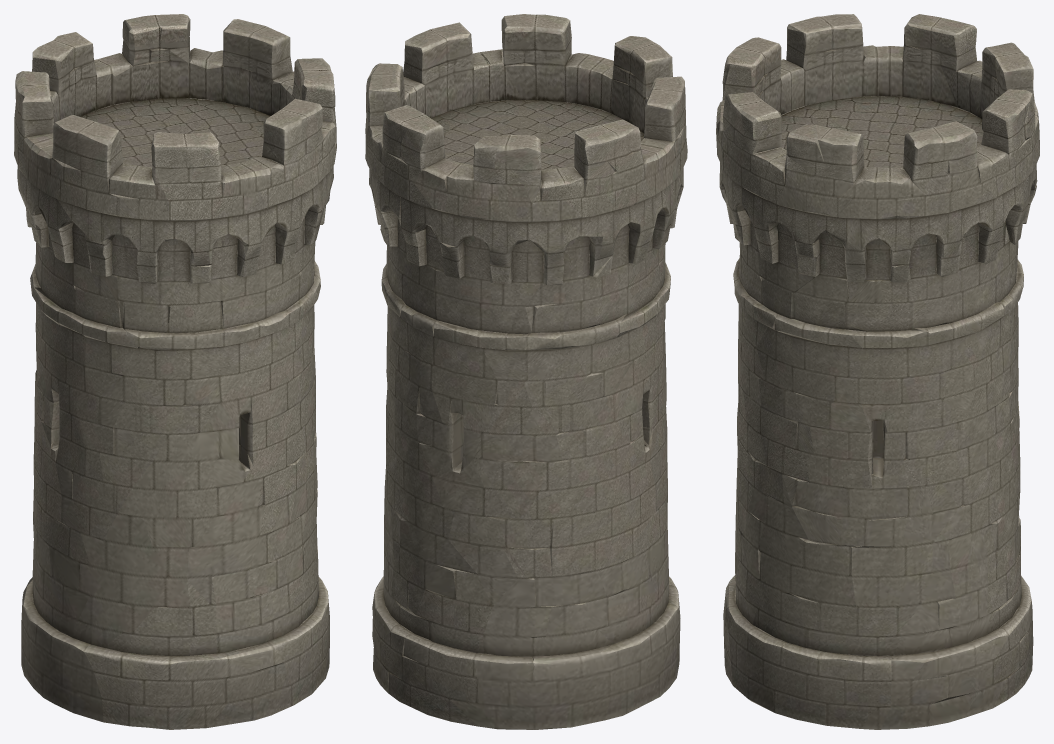
The model's file is tower_open.glb.
The picture shows the model from 3 angles, left to right: view 1: azimuth 30°, elevation 25°; view 2: azimuth 150°, elevation 25°; view 3: azimuth 270°, elevation 25°; orthographic projection.
Parts seen in each view (by area): view 1: tower_open, garrison_floor; view 2: tower_open, garrison_floor; view 3: tower_open, garrison_floor.
Boxes of the visible parts, <box> form: tower_open: <box>14,14,336,729</box>; garrison_floor: <box>81,98,270,167</box>; tower_open: <box>365,14,687,729</box>; garrison_floor: <box>431,100,643,169</box>; tower_open: <box>716,14,1039,729</box>; garrison_floor: <box>781,96,983,167</box>.
Bounding box in the file's own units: 0.9449 × 1.9 × 0.947.
1 material, 1 textured.
